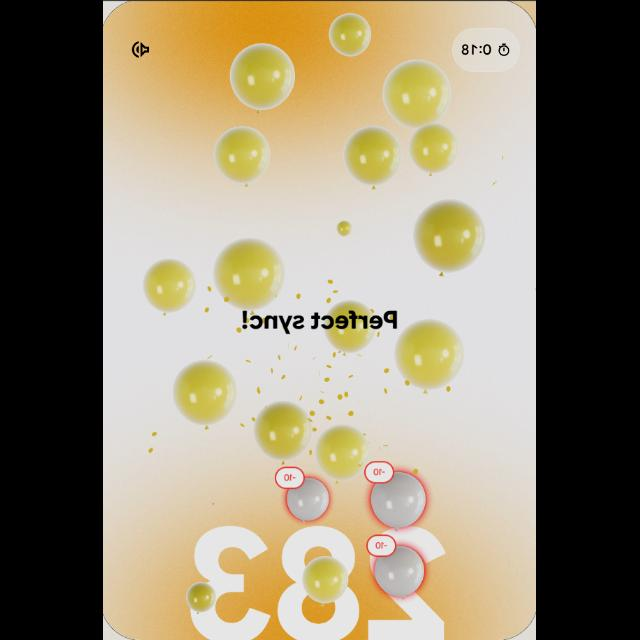hazard: (366, 460, 432, 532), (366, 534, 432, 602), (272, 465, 332, 529)
safe: (414, 198, 488, 276), (383, 52, 455, 130), (227, 41, 300, 117), (217, 237, 287, 313), (172, 359, 236, 431), (397, 323, 465, 389), (250, 401, 314, 467), (138, 253, 198, 320), (212, 125, 272, 189), (343, 126, 401, 192), (324, 297, 378, 357), (314, 426, 371, 482), (300, 556, 350, 608), (409, 124, 458, 176), (324, 13, 376, 61), (182, 580, 218, 616), (330, 218, 358, 238)
